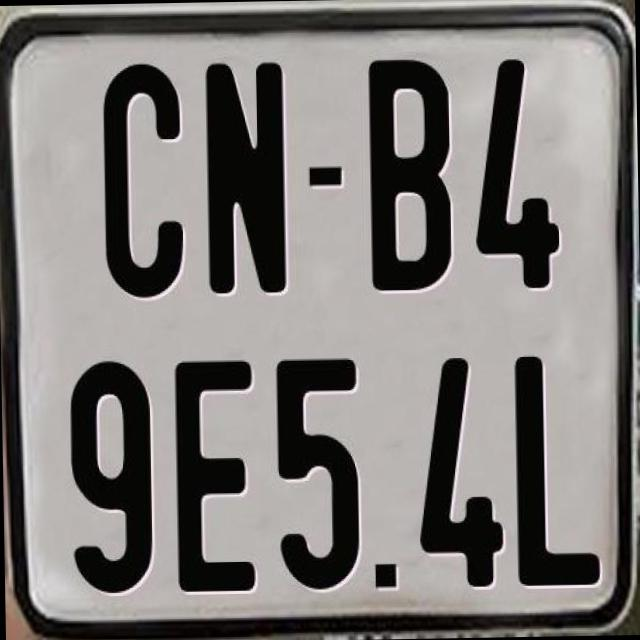4: (416, 357, 504, 593), (472, 55, 560, 285)
5: (272, 353, 364, 591)
9: (64, 355, 152, 596)
B: (365, 57, 449, 290)
C: (102, 60, 184, 300)
E: (170, 355, 252, 590)
L: (511, 352, 605, 589)
N: (203, 60, 285, 298)
